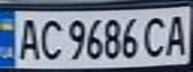6: (118, 15, 145, 60), (84, 16, 106, 61)
8: (103, 16, 124, 61)
9: (63, 16, 87, 61)
A: (163, 10, 193, 57), (12, 15, 42, 61)
C: (139, 12, 172, 59), (36, 16, 66, 62)
